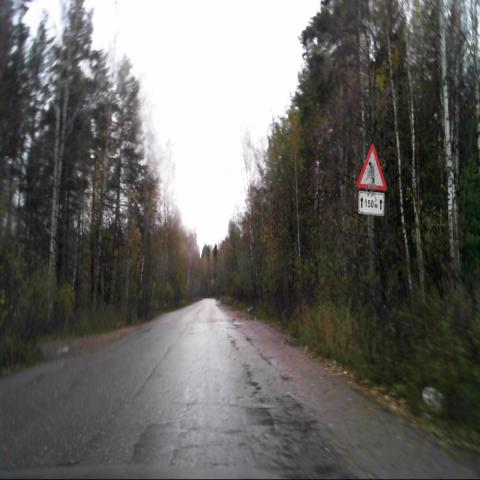1_11_1: (356, 144, 386, 191)
8_2_1: (358, 191, 384, 216)
